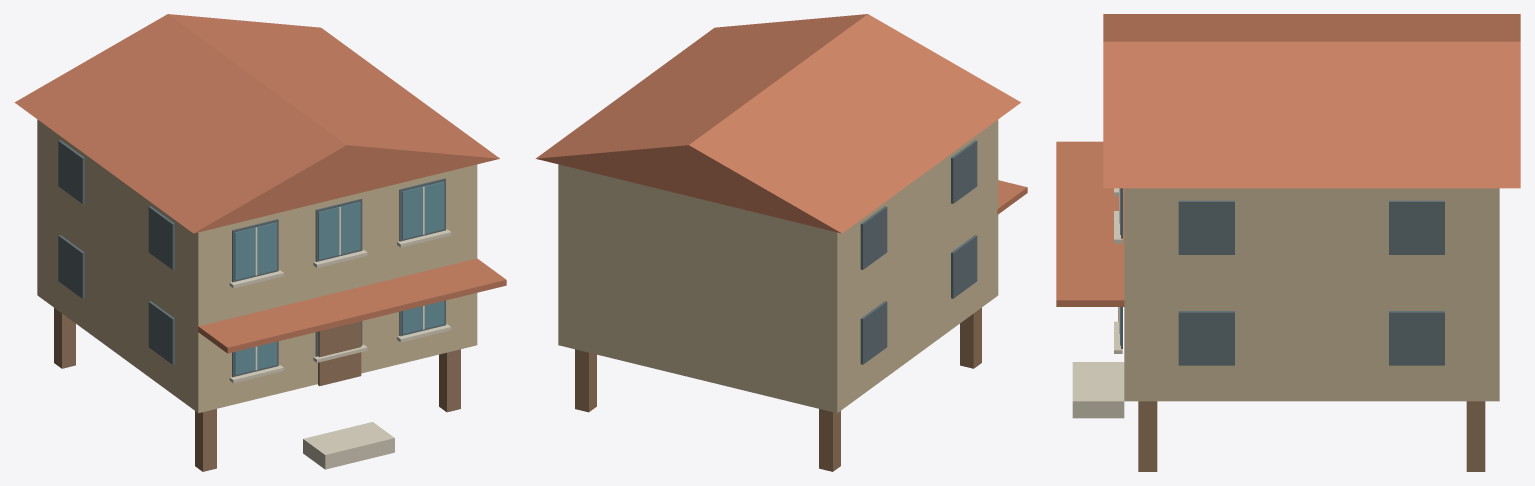
File: stilt-1.glb
3 views of the same model, side by side, from view 1: azimuth 30°, elevation 25°; view 2: azimuth 150°, elevation 25°; view 3: azimuth 270°, elevation 25° (orthographic). The views are drawn at different scales.
Size of the model in its own units: 8.8 by 8.4 by 9.9.
